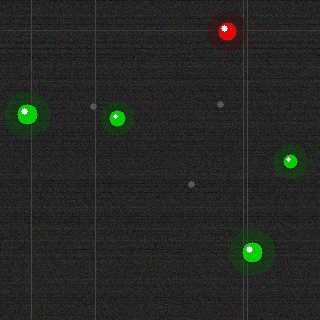green_normal: (15, 102, 39, 126), (240, 240, 264, 264), (107, 108, 127, 128), (281, 152, 299, 170)
red_fault: (216, 20, 238, 42)
